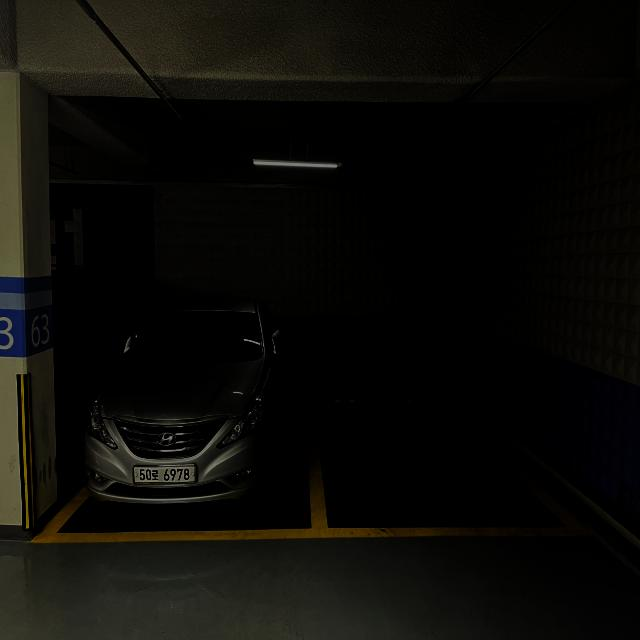empty: (308, 381, 597, 538)
occupied: (81, 282, 303, 527)
